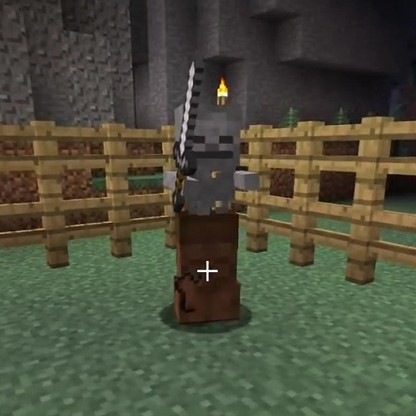skeleton: (170, 102, 249, 325)
